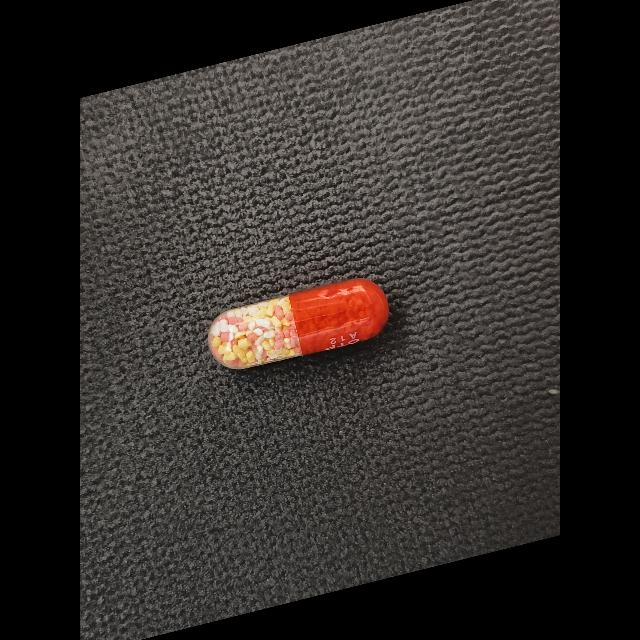Intact Capsule: (208, 278, 389, 369)
